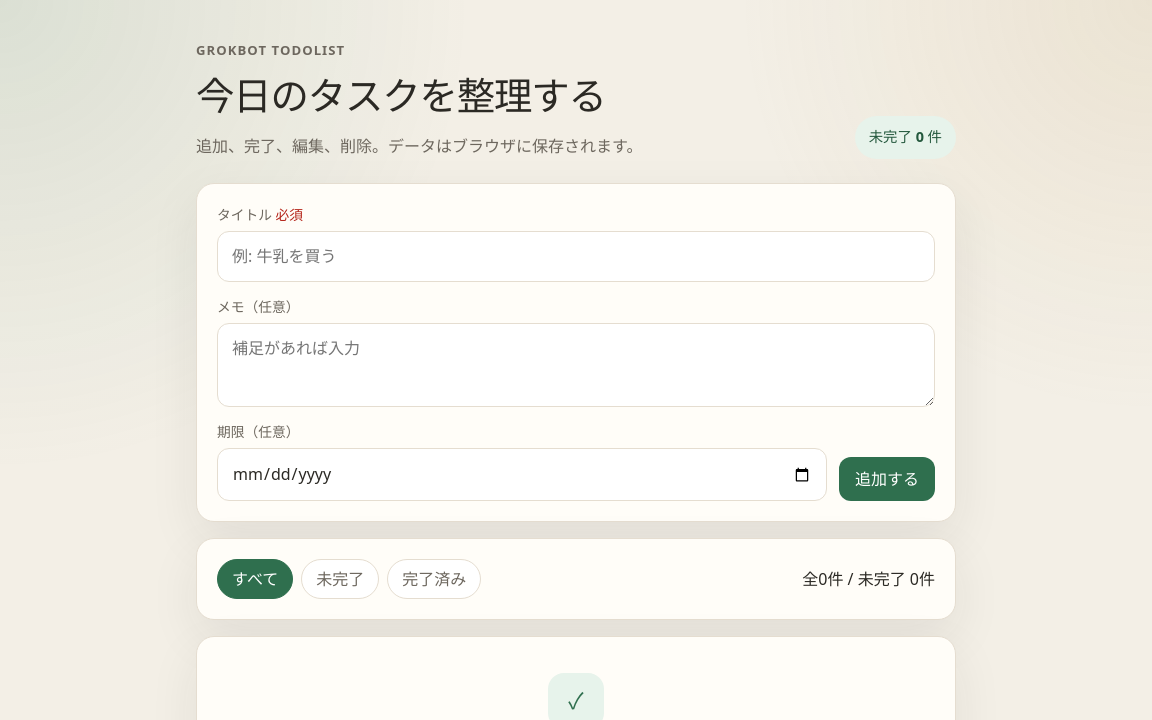
Test: App › marks a todo complete and incomplete
Type "メールを送る" into the field labelled "タイトル 必須" at [576, 256], box [217, 231, 935, 282]
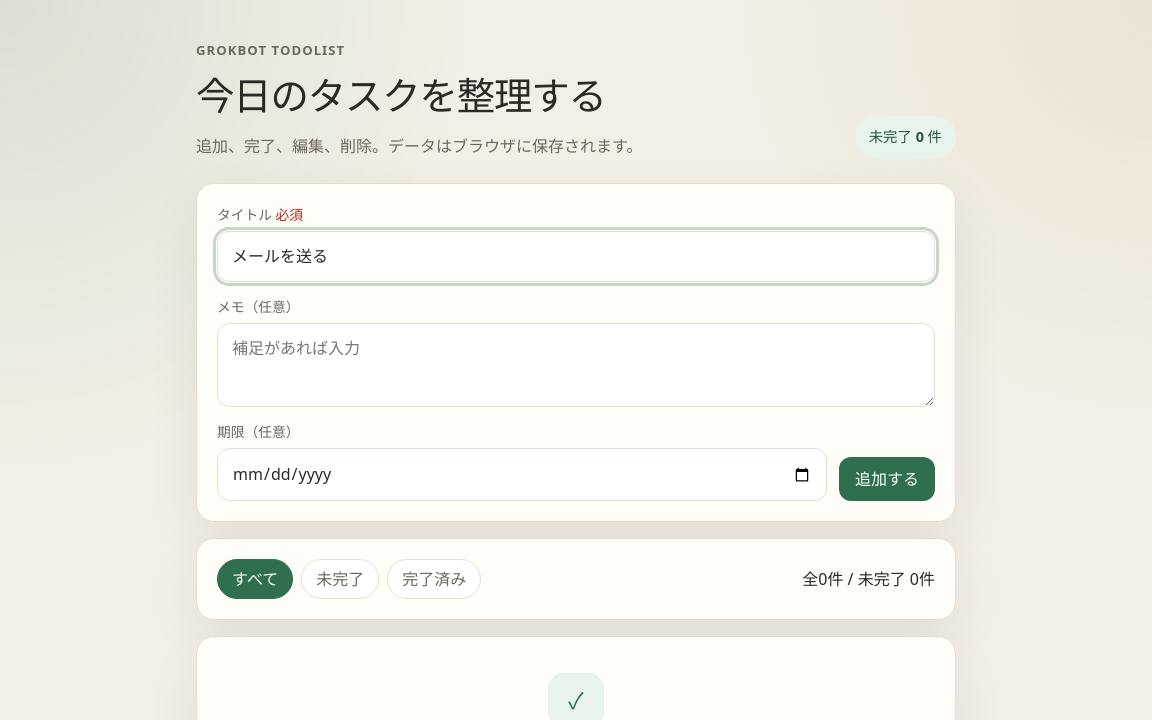
Click the button "追加する" at [887, 479], box [839, 457, 935, 501]
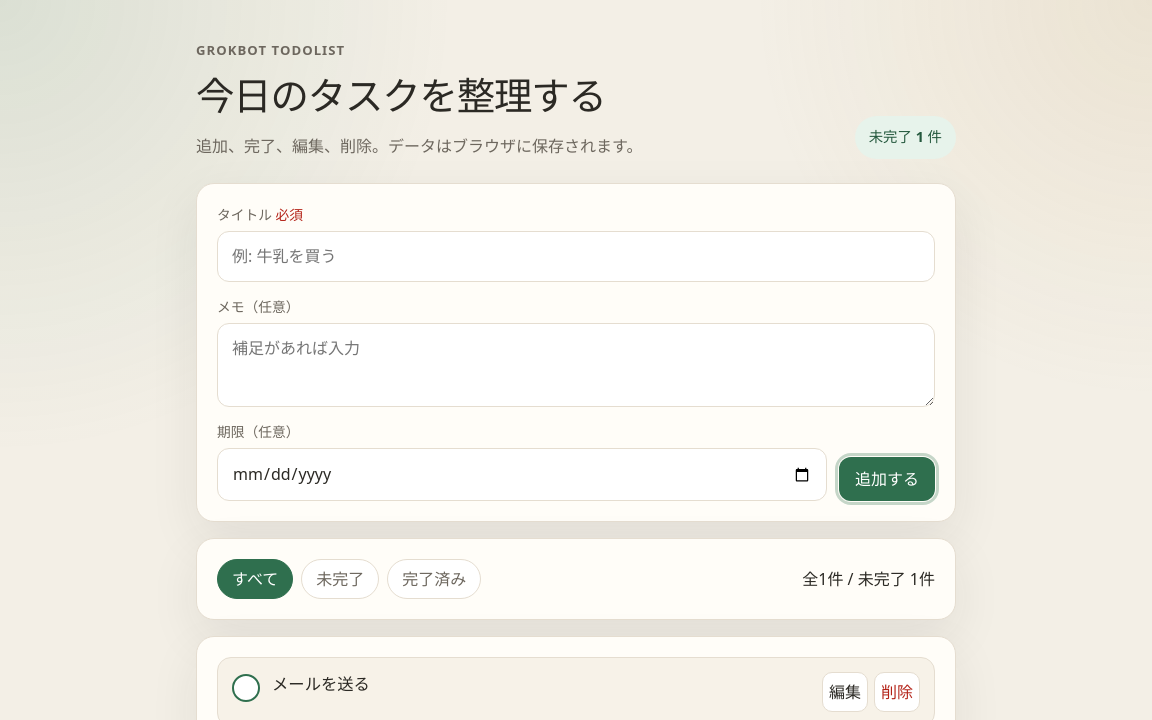
Click the button named "完了にする" at [246, 688], box [232, 674, 260, 702]
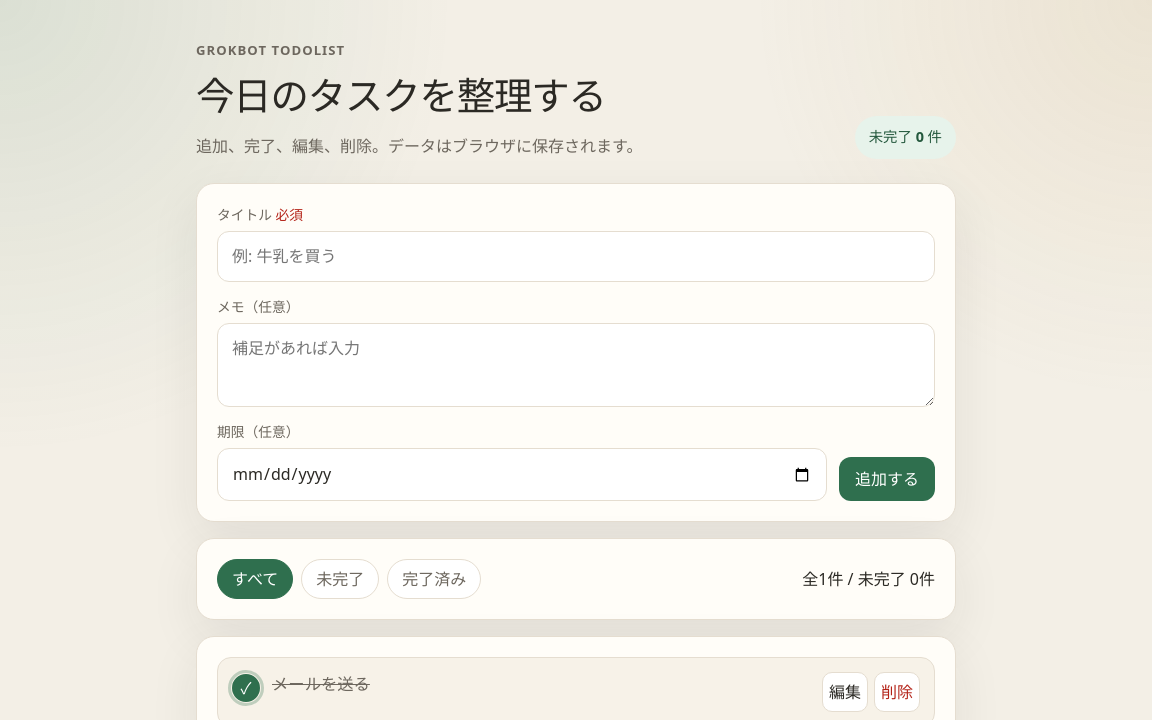
Expected: the button named "未完了に戻す" is shown
Expected: the text "未完了 0 件" is shown, [855, 116, 956, 159]
Click the button named "未完了に戻す" at [246, 688], box [232, 674, 260, 702]
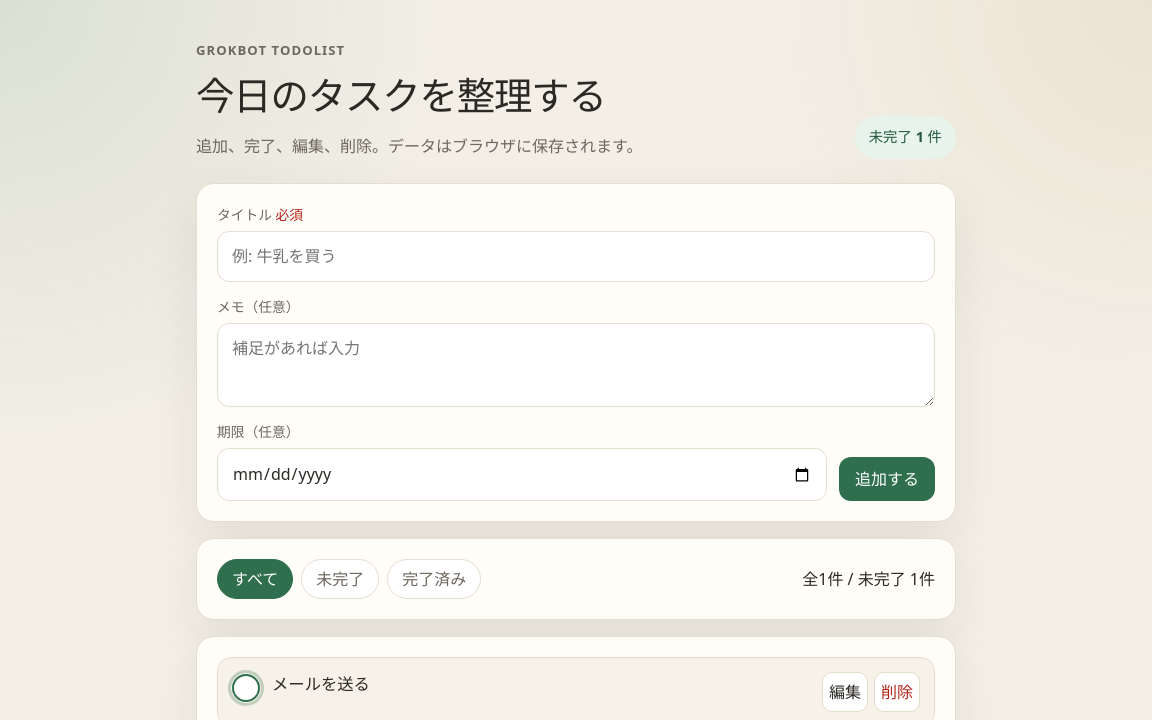
Expected: the button named "完了にする" is shown, [232, 674, 260, 702]
